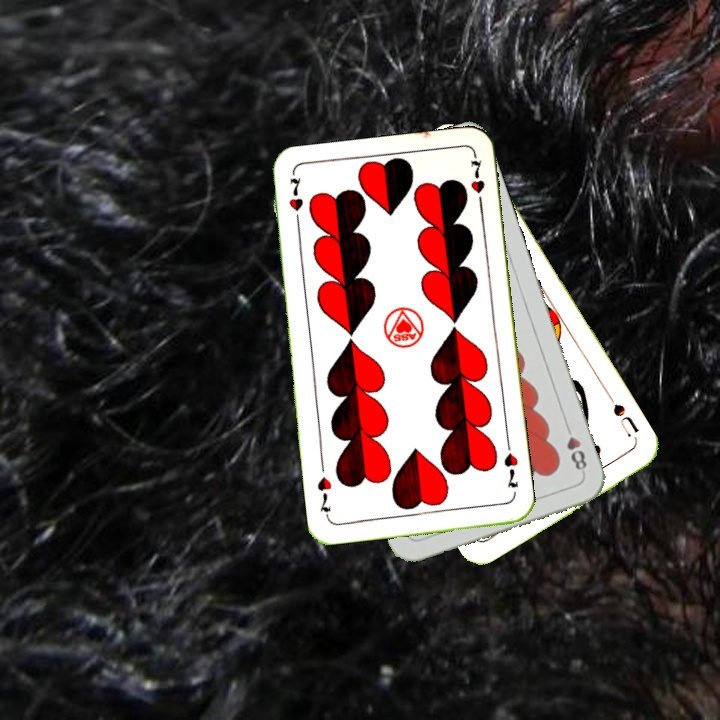H7: (285, 174, 306, 230), (499, 449, 521, 491)
H8: (561, 419, 590, 477)
SU: (608, 399, 641, 440)
